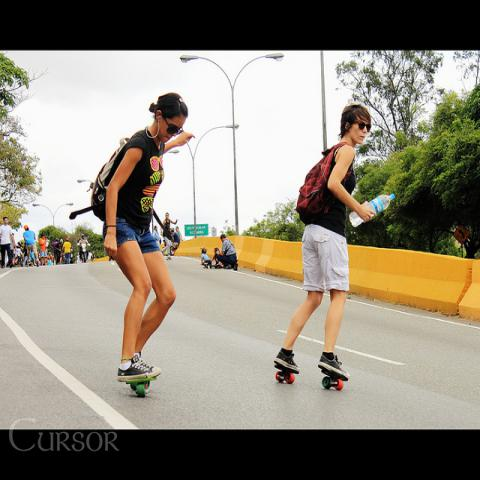motorcycle: (77, 242, 91, 263)
